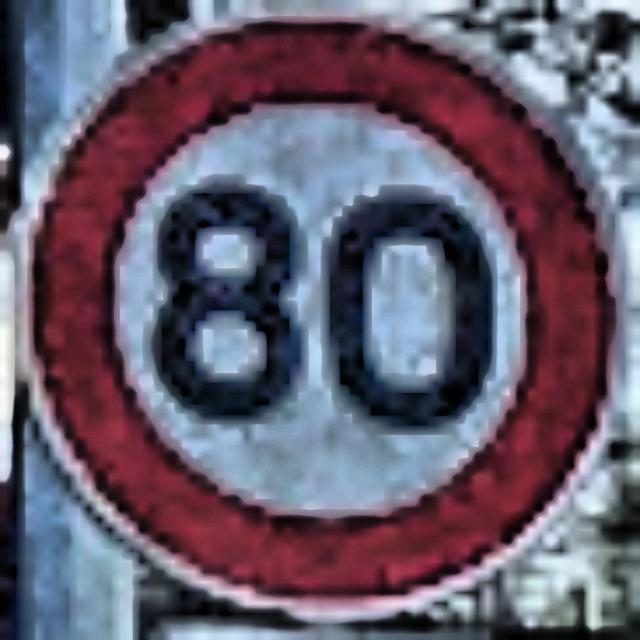speed_80: (1, 0, 630, 640)
